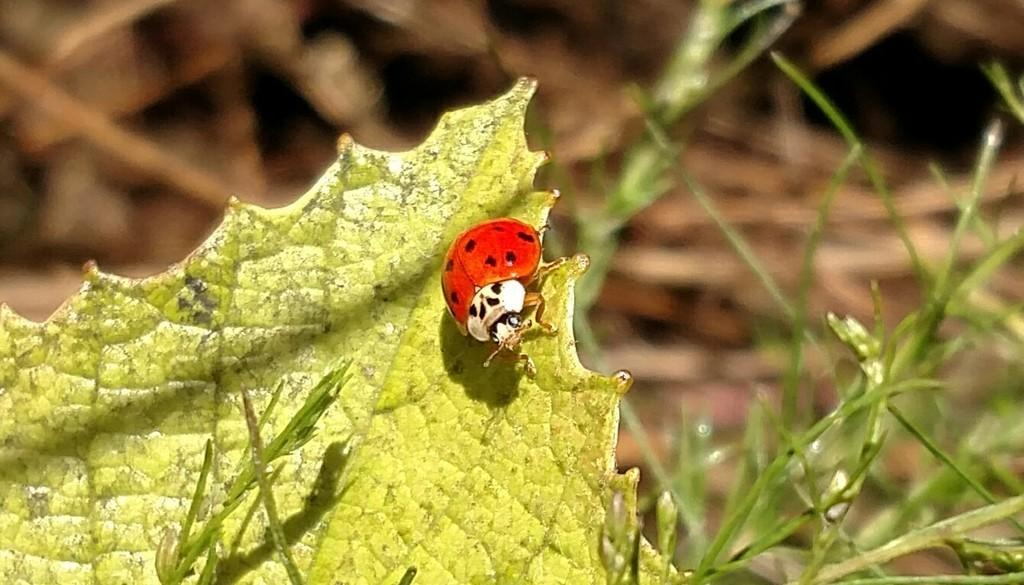ladybug: (441, 216, 569, 368)
